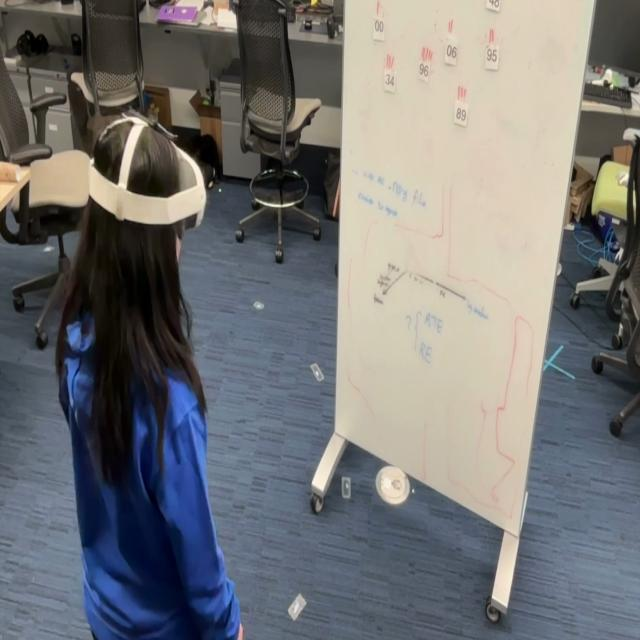Headset: (88, 112, 207, 231)
